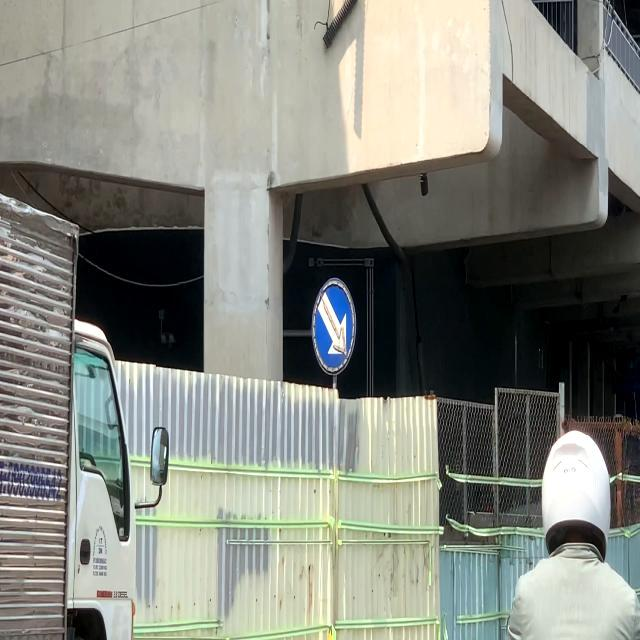Vong chuong ngai vat sang phai: (310, 274, 358, 378)
